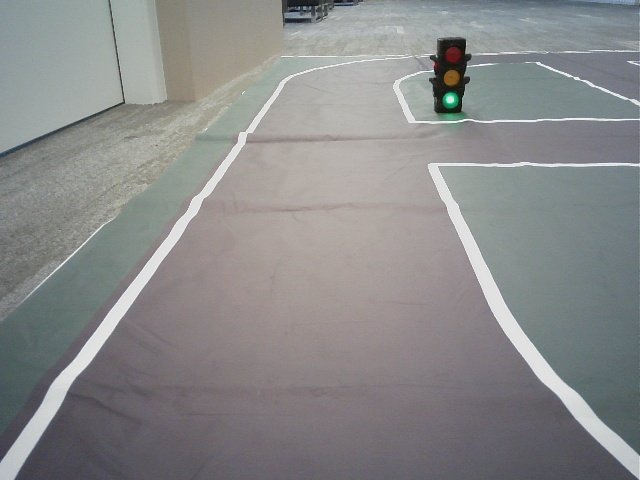green: (439, 42, 461, 108)
